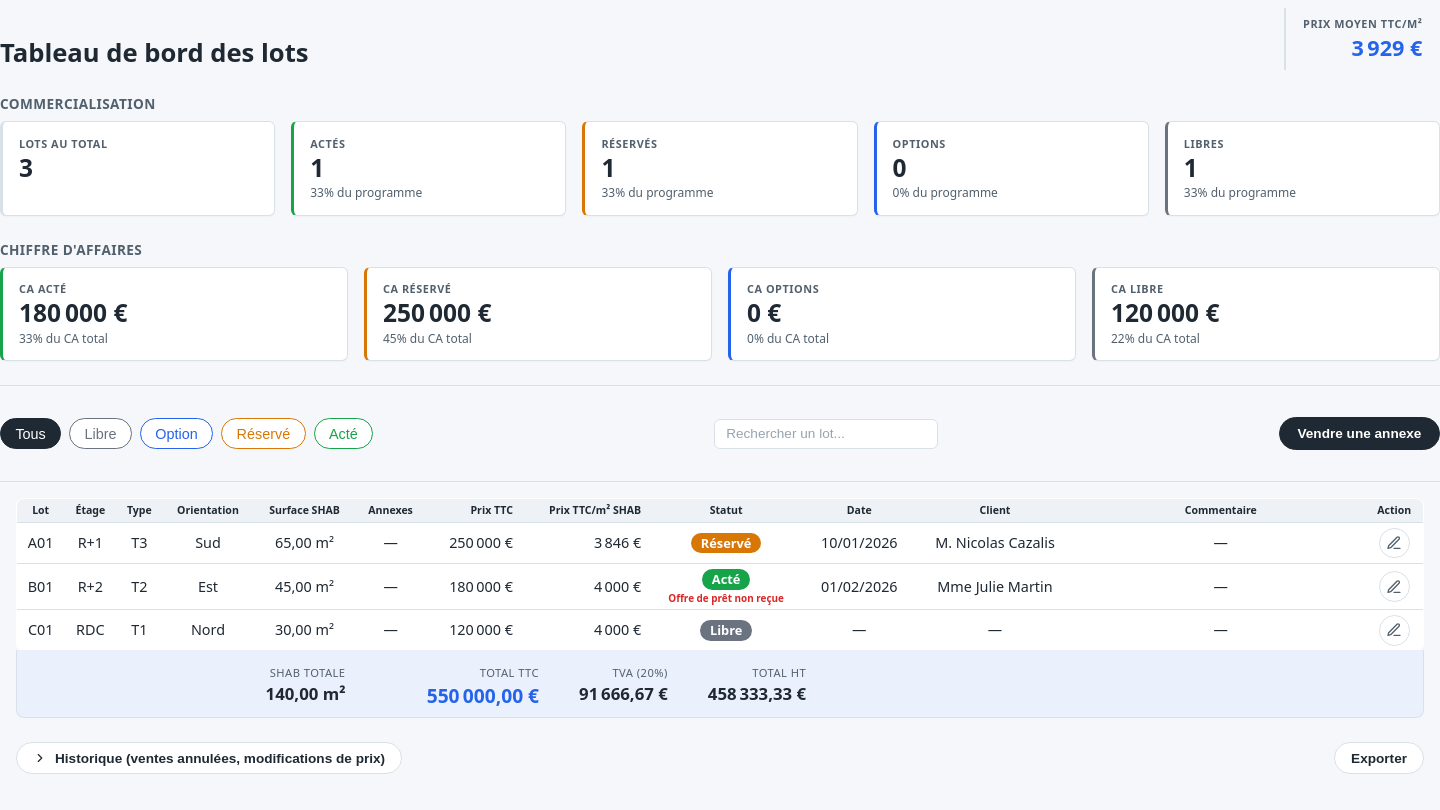
Test: Lots — panneau "Modifier" › un clic sur le crayon ouvre le panneau, un second en ferme un autre
Expected: the table is shown, x1=16 y1=498 x2=1424 y2=651
Click the button named "Modifier" in the row of "A01": point(1394, 543) x1=1379 y1=528 x2=1410 y2=558
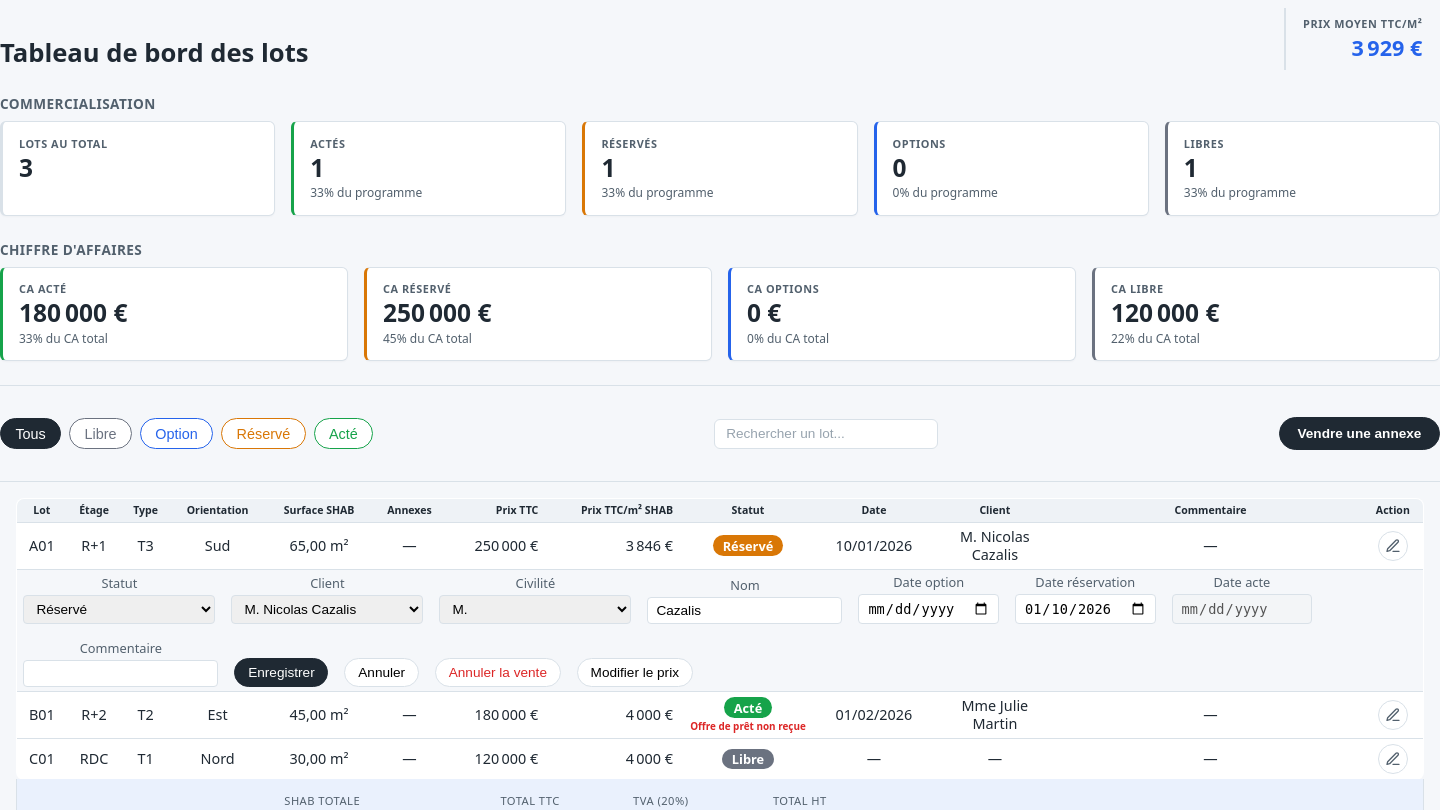
Expected: the button "Enregistrer" is shown, x1=234 y1=658 x2=328 y2=686
Click the button named "Modifier" in the row of "B01": point(1393, 715) x1=1378 y1=700 x2=1408 y2=730
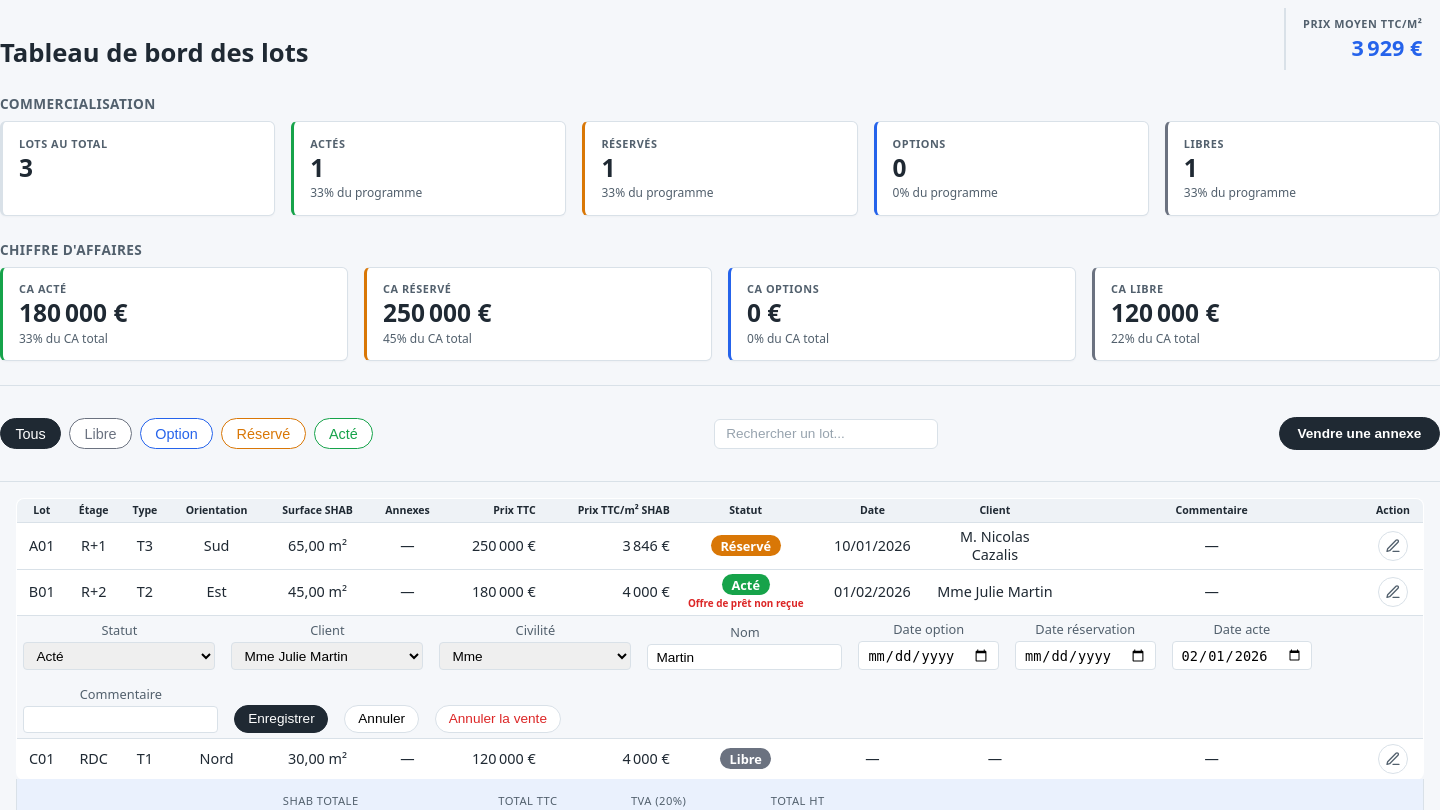
Expected: the number of buttons "Enregistrer" is 1, x1=234 y1=705 x2=328 y2=733
